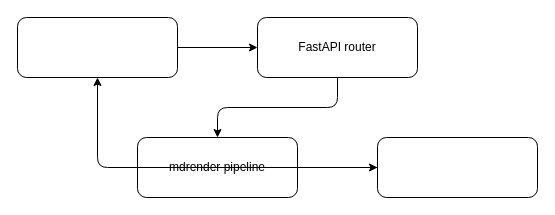
Image size: 555x215. Some labels were removed from this diagram. Here are the shapes that lost their labels. From the top down, the box of each, then its label:
(16, 16, 178, 78): Client (SPA)
(376, 136, 538, 198): WS broadcaster
